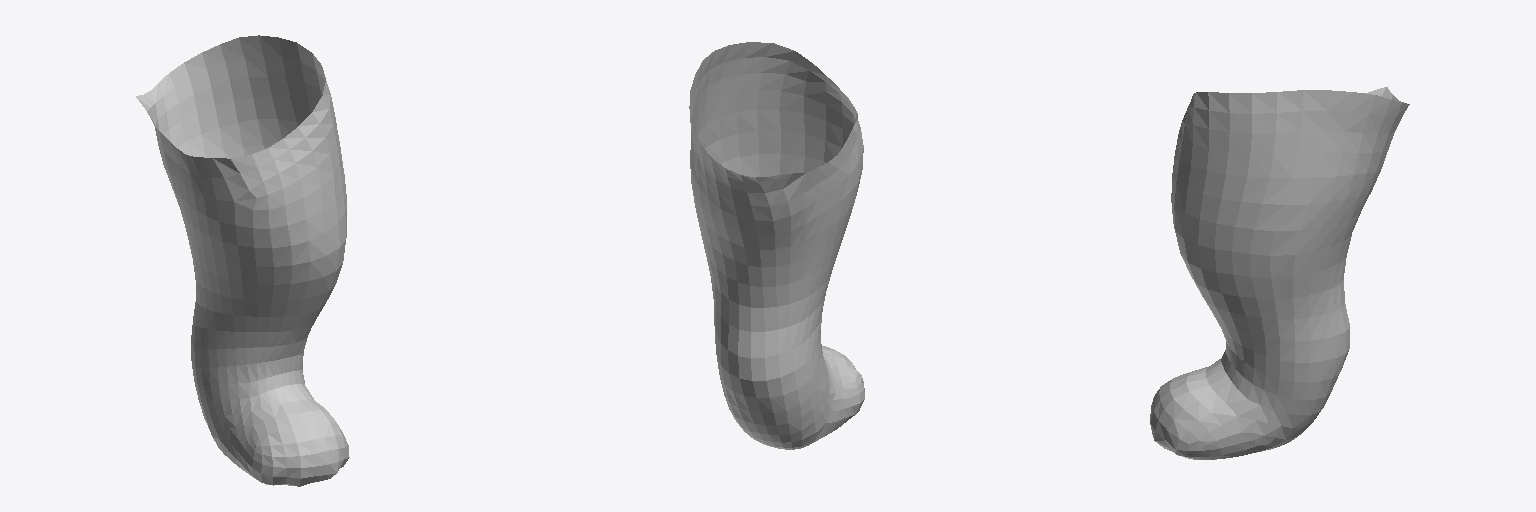
File: leg.obj
3 renders of one model, left to right at view 1: azimuth 30°, elevation 25°; view 2: azimuth 150°, elevation 25°; view 3: azimuth 270°, elevation 25°, orthographic.
Parts seen in each view (by area): view 1: cat_in_bed-RETOP4.003; view 2: cat_in_bed-RETOP4.003; view 3: cat_in_bed-RETOP4.003.
Boxes of the visible parts, box(x1,y1,x2,y2) form: cat_in_bed-RETOP4.003: box(136, 35, 349, 486); cat_in_bed-RETOP4.003: box(689, 42, 864, 449); cat_in_bed-RETOP4.003: box(1150, 87, 1409, 459).
Bounding box in the file's own units: 0.6032 × 1.59 × 0.975.